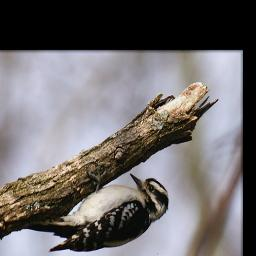Woodpecker: (23, 170, 179, 256)
